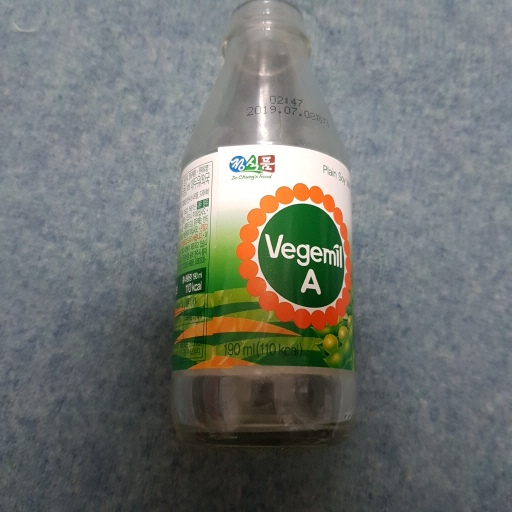Glass_4: (167, 1, 361, 444)
